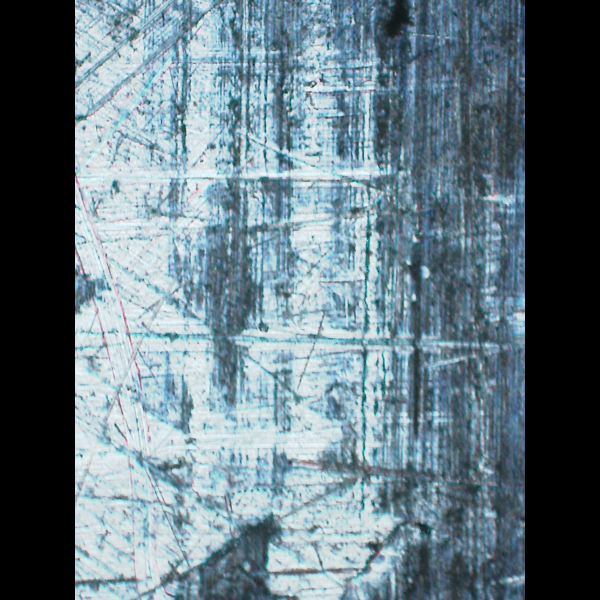d: (75, 0, 455, 592)
